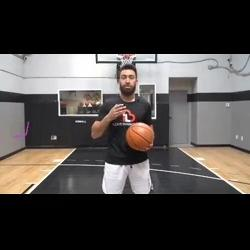BasketBall: (124, 120, 155, 152)
